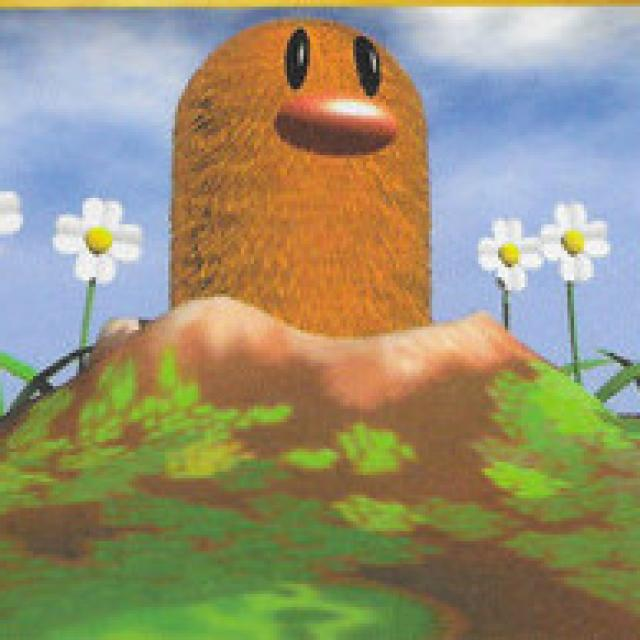Diglett: (164, 8, 434, 320)
